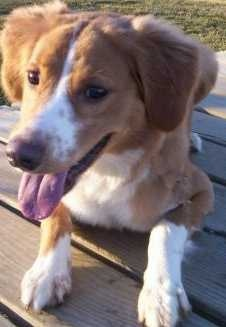Dog: (0, 2, 218, 305)
